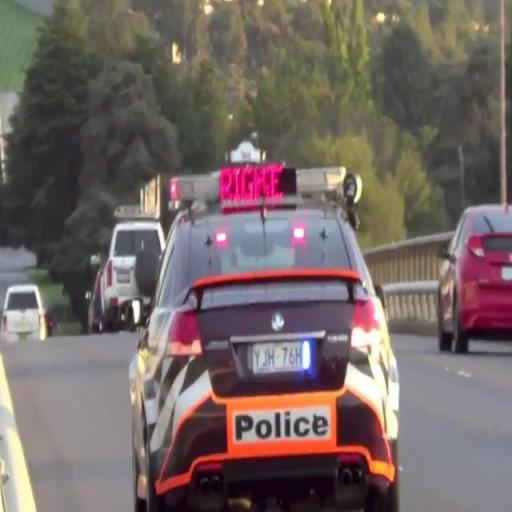Ambulance: (134, 165, 402, 504)
